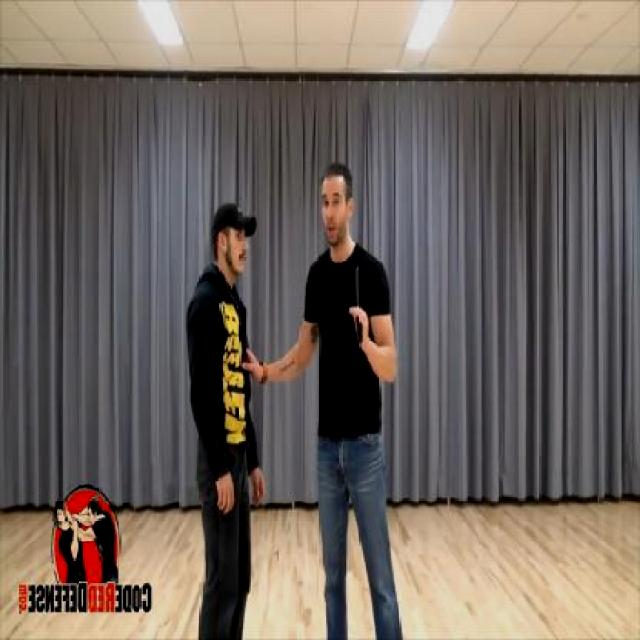knife: (348, 263, 366, 343)
